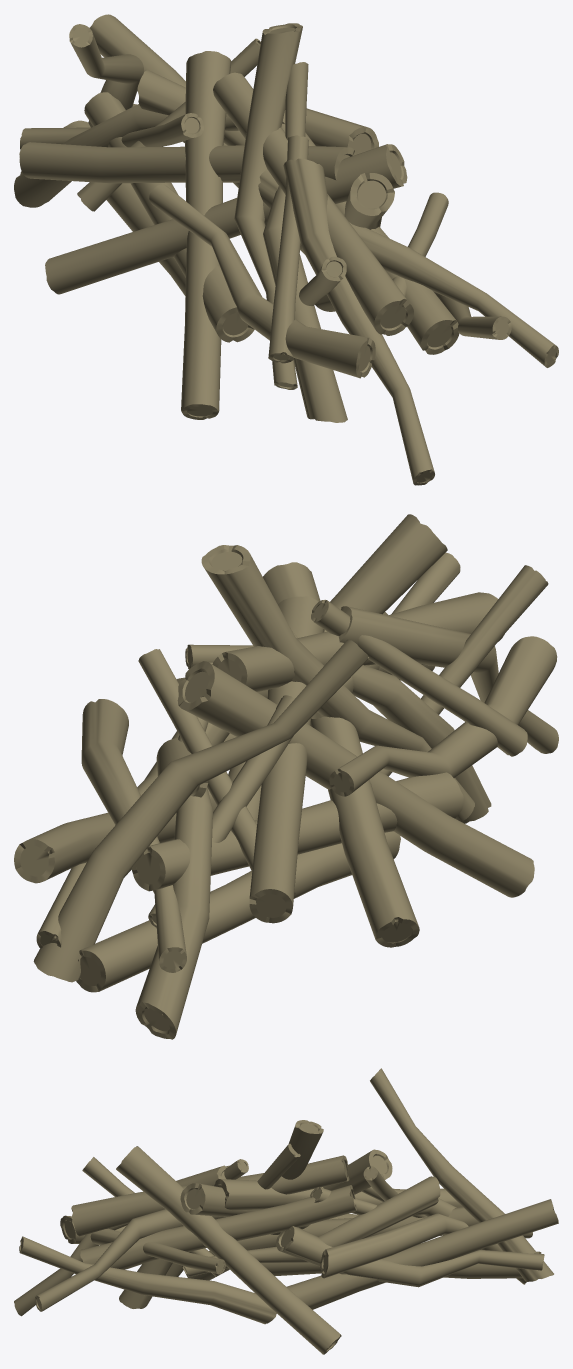
The model's file is Dam.glb.
The picture shows the model from 3 angles, top to bottom: view 1: azimuth 30°, elevation 25°; view 2: azimuth 150°, elevation 25°; view 3: azimuth 270°, elevation 25°; orthographic projection. The views are drawn at different scales.
Parts seen in each view (by area): view 1: Log_A.004, Log_A.006, Log_C.012, Log_C.004, Log_A.002, Log_C.003, Log_A.005, Log_C.010, Log_C.005, Log_A.003, Log_B.002, Log_C.006 (+12 smaller); view 2: Log_C.002, Log_A.004, Log_A.006, Log_C.004, Log_A.002, Log_C.003, Log_A.008, Log_C.006, Log_A.003, Log_C.007, Log_C.012, Log_A.005 (+11 smaller); view 3: Log_A.009, Log_A.010, Log_A.007, Log_C.009, Log_C.011, Log_C.002, Log_A.005, Log_C.008, Log_C.007, Log_C.010, Log_A.002, Log_C.012 (+12 smaller).
Part boxes in pixels (left/top/right/bottom): Log_A.004: left=181, top=51, right=231, bottom=419; Log_A.006: left=45, top=144, right=407, bottom=294; Log_C.012: left=283, top=158, right=434, bottom=485; Log_C.004: left=234, top=23, right=302, bottom=389; Log_A.002: left=19, top=142, right=356, bottom=183; Log_C.003: left=149, top=184, right=375, bottom=378; Log_A.005: left=213, top=72, right=413, bottom=335; Log_C.010: left=258, top=170, right=558, bottom=367; Log_C.005: left=263, top=62, right=347, bottom=422; Log_A.003: left=84, top=92, right=254, bottom=342; Log_B.002: left=268, top=135, right=308, bottom=363; Log_C.006: left=14, top=104, right=285, bottom=207; Log_C.002: left=33, top=639, right=368, bottom=982; Log_A.004: left=177, top=661, right=534, bottom=897; Log_A.006: left=263, top=562, right=419, bottom=947; Log_C.004: left=201, top=545, right=474, bottom=821; Log_A.002: left=249, top=596, right=322, bottom=923; Log_C.003: left=329, top=636, right=557, bottom=796; Log_A.008: left=76, top=831, right=400, bottom=992; Log_C.006: left=135, top=662, right=212, bottom=1039; Log_A.003: left=131, top=772, right=463, bottom=891; Log_C.007: left=81, top=699, right=186, bottom=972; Log_C.012: left=323, top=606, right=558, bottom=753; Log_A.005: left=212, top=592, right=504, bottom=691; Log_A.009: left=116, top=1146, right=341, bottom=1354; Log_A.010: left=286, top=1199, right=558, bottom=1309; Log_A.007: left=80, top=1185, right=356, bottom=1269; Log_C.009: left=19, top=1236, right=276, bottom=1324; Log_C.011: left=276, top=1226, right=544, bottom=1287; Log_C.002: left=370, top=1068, right=553, bottom=1281; Log_A.005: left=71, top=1155, right=349, bottom=1236; Log_C.008: left=182, top=1176, right=440, bottom=1276; Log_C.007: left=320, top=1213, right=532, bottom=1278; Log_C.010: left=35, top=1209, right=225, bottom=1311; Log_A.002: left=214, top=1179, right=462, bottom=1210; Log_C.012: left=14, top=1165, right=229, bottom=1316.
Bounding box in the file's own units: 31.41 × 29.72 × 67.64.
